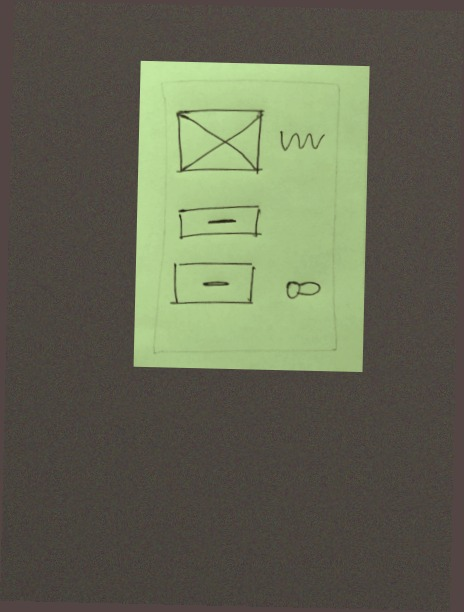button: (169, 257, 258, 307), (174, 204, 265, 243)
image: (172, 108, 267, 177)
switch: (281, 277, 324, 303)
text: (275, 125, 328, 156)
